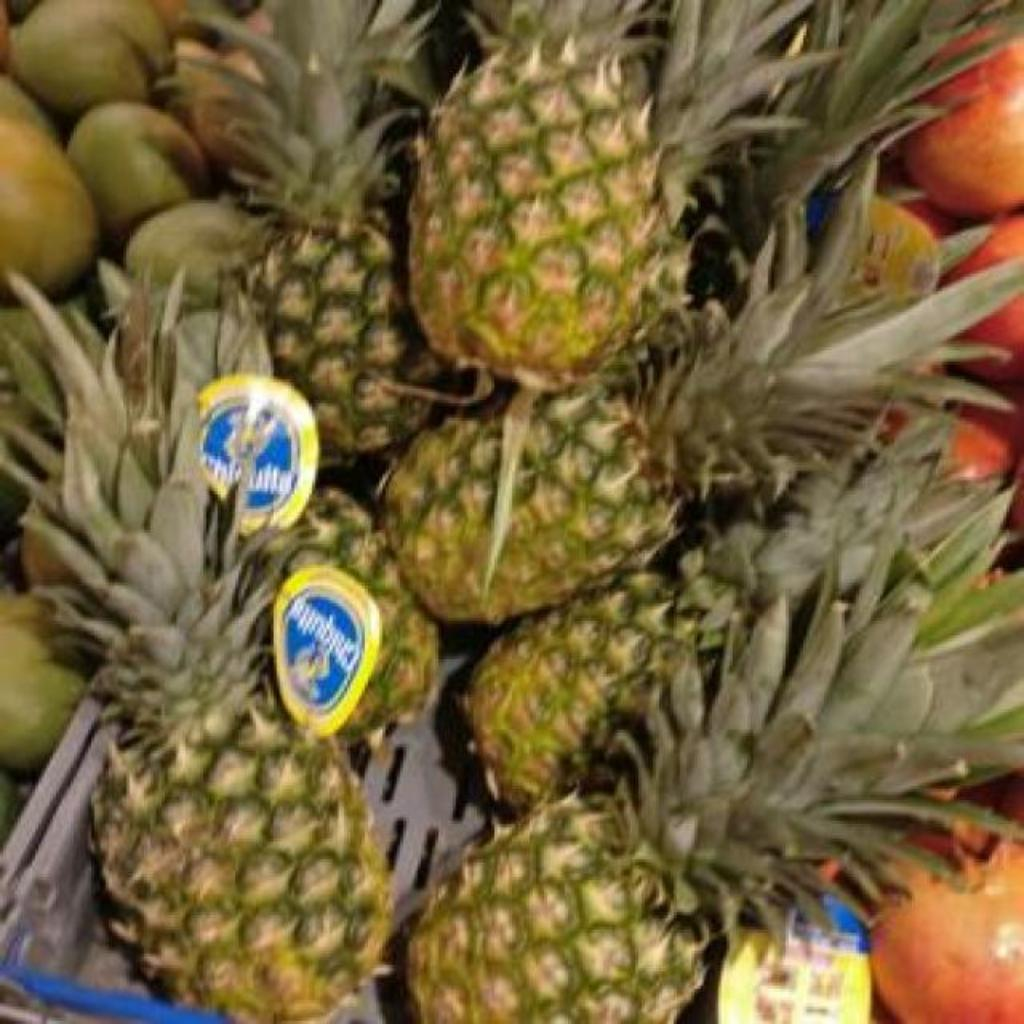pineapple: (412, 418, 1024, 1024), (19, 288, 390, 1024), (386, 272, 1024, 621), (466, 440, 1024, 807), (410, 2, 666, 591), (164, 0, 436, 459), (180, 292, 438, 736)
